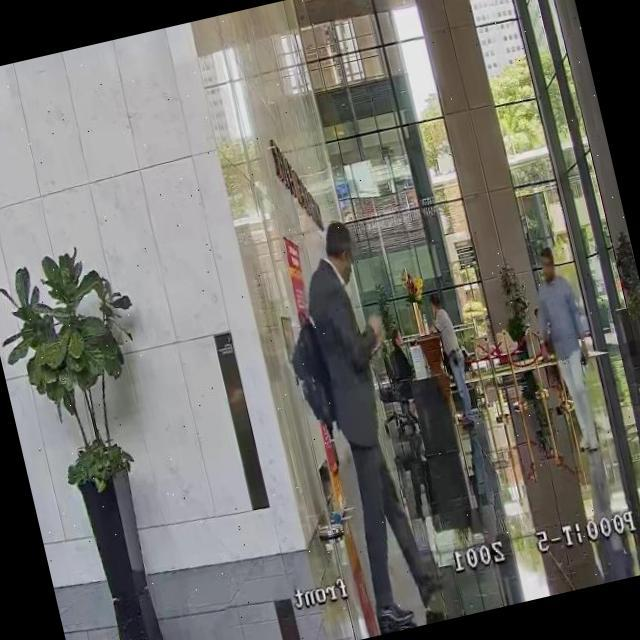person: (288, 215, 452, 634), (518, 242, 614, 458), (422, 288, 478, 430), (382, 327, 419, 407)
